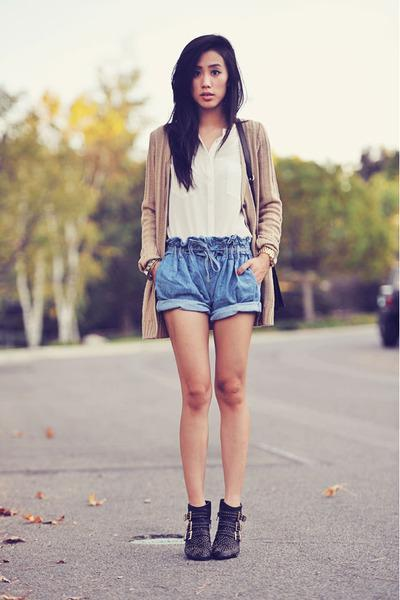jacket: (128, 120, 291, 338)
shirt: (168, 132, 253, 258)
shoe: (156, 499, 245, 560)
shorts: (143, 230, 274, 325)
